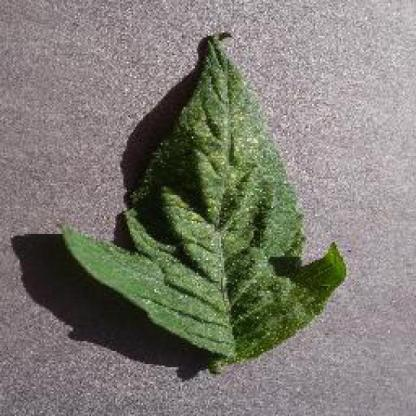Tomato_Spider_Mites: (59, 32, 348, 358)
